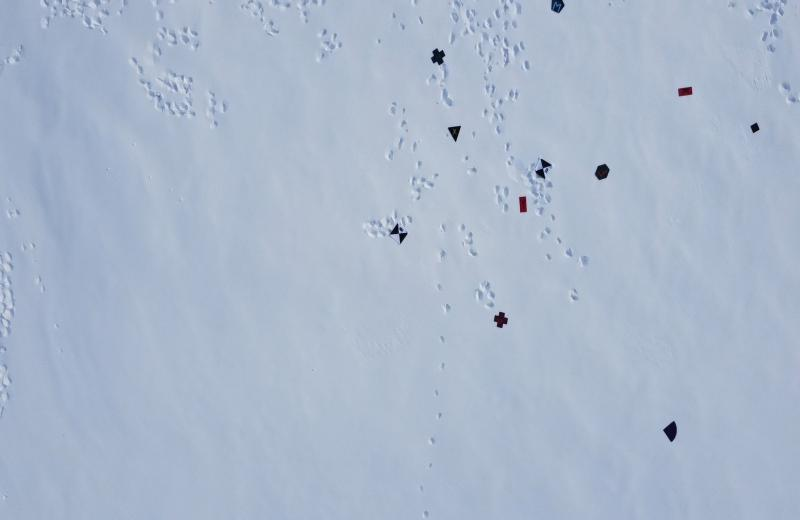Cross: (430, 47, 447, 66), (493, 310, 508, 329)
Hexagon: (595, 163, 611, 182)
Pentagon: (549, 0, 565, 14)
Quarter Circle: (662, 419, 680, 444)
Rectangle: (517, 196, 528, 214), (678, 86, 692, 98)
Square: (750, 123, 761, 135)
Triangle: (446, 124, 464, 143)
